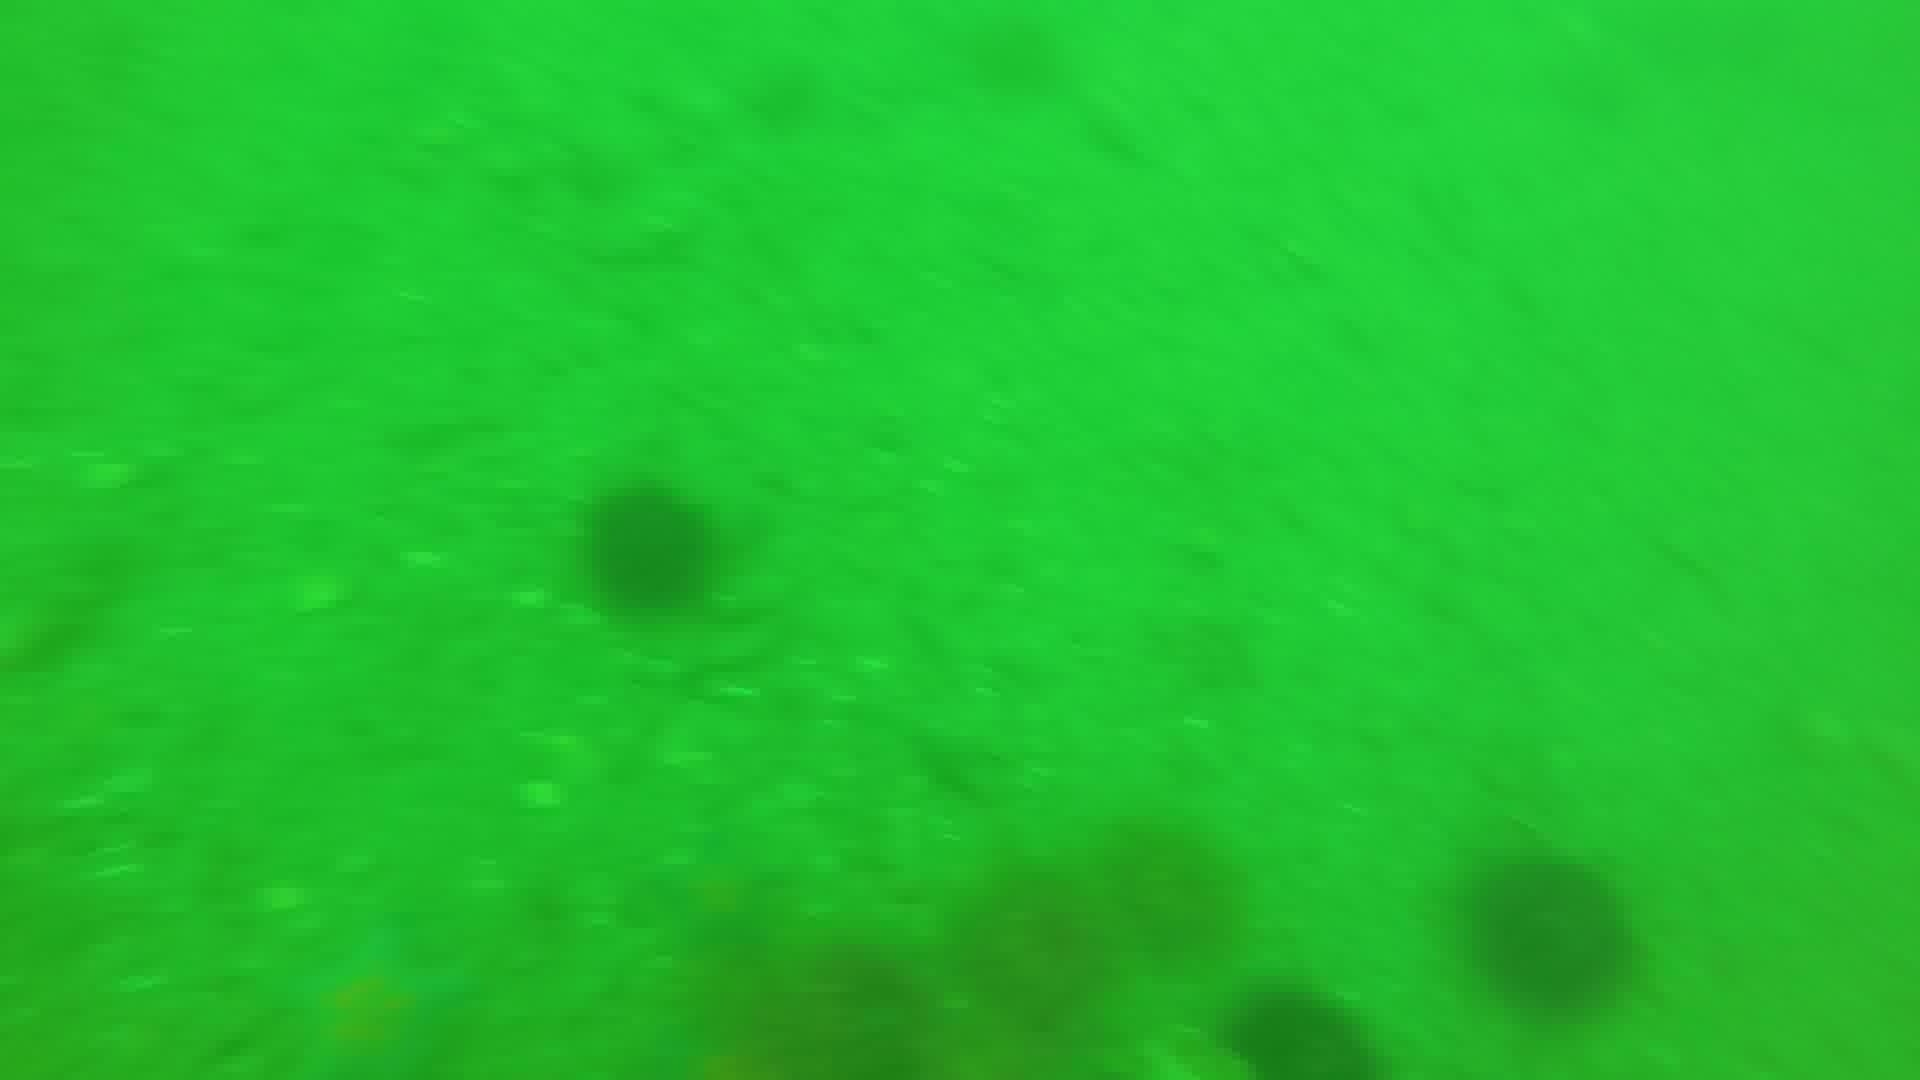echinus: (698, 935, 934, 1077), (1457, 848, 1644, 1022), (953, 864, 1118, 1030), (1100, 818, 1246, 963), (578, 480, 721, 618), (1218, 982, 1379, 1077)
starfish: (272, 920, 480, 1080), (638, 831, 793, 967)
